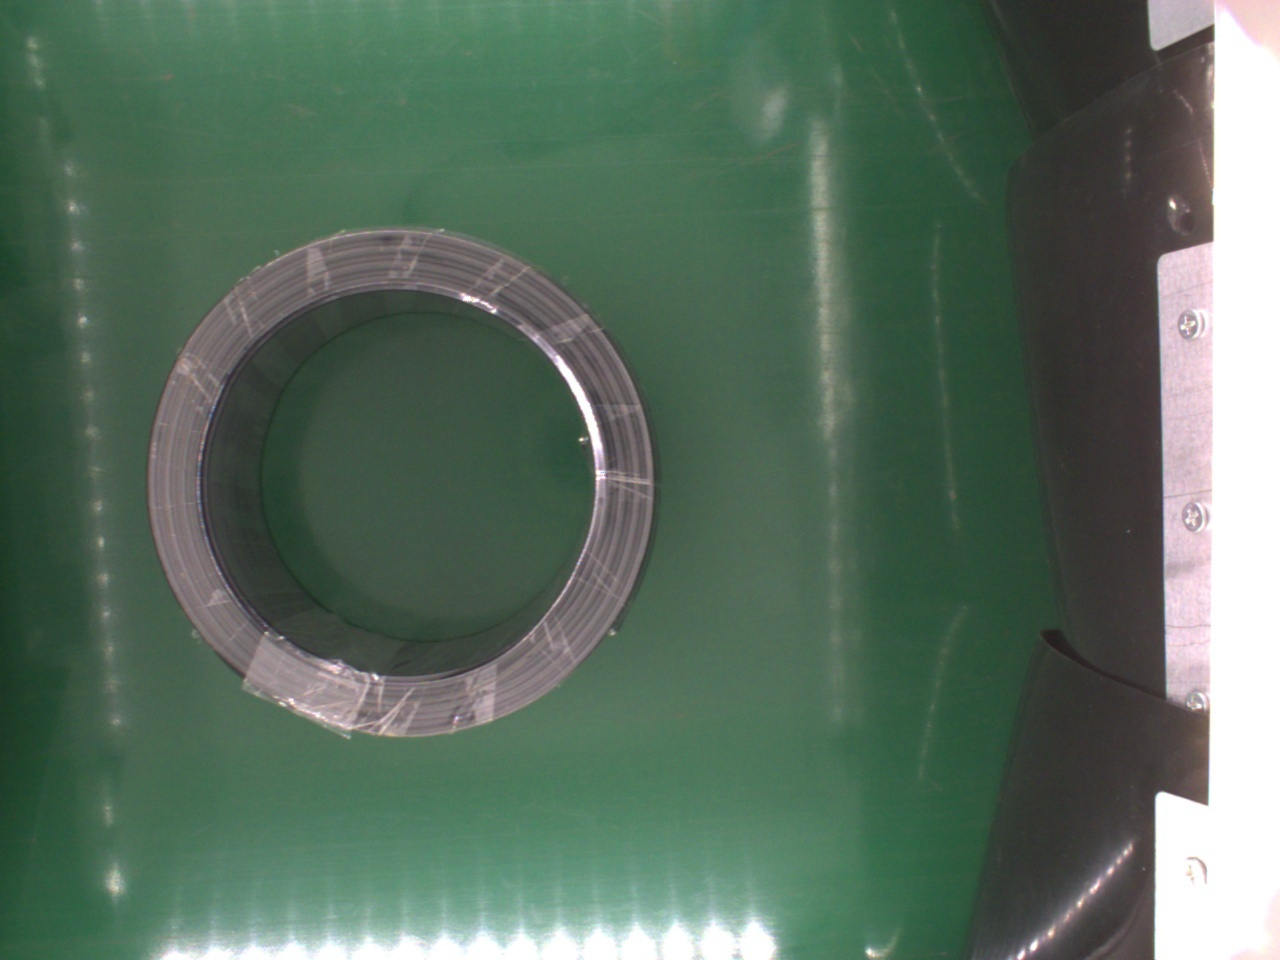black: (145, 228, 655, 745)
